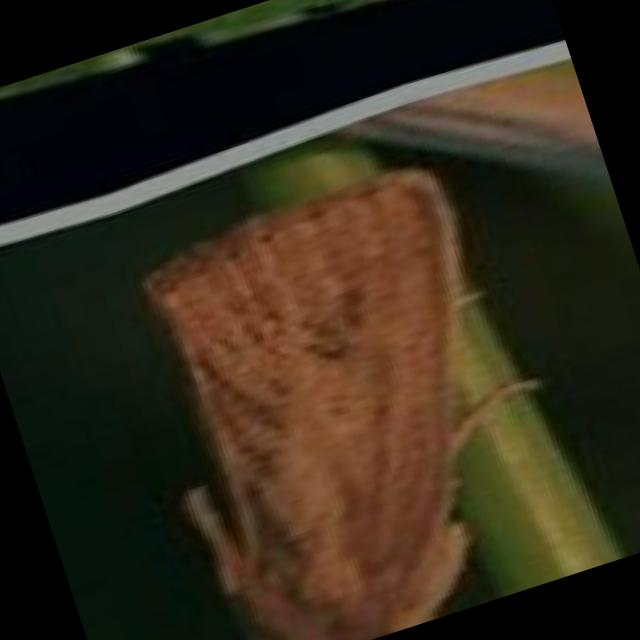stem-borer: (98, 136, 600, 640)
